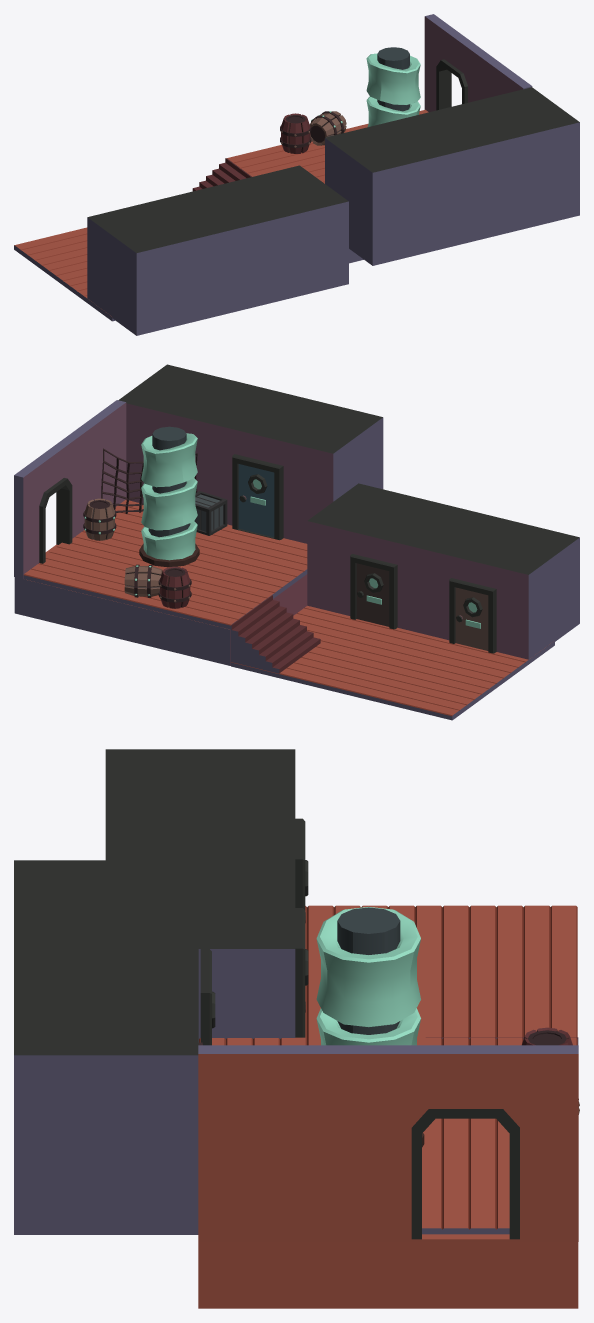
File: middle1.fbx
The picture shows the model from 3 angles, top to bottom: view 1: azimuth 30°, elevation 25°; view 2: azimuth 150°, elevation 25°; view 3: azimuth 270°, elevation 25°; orthographic projection. The views are drawn at different scales.
Visible parts, largest first — view 1: middle1; view 2: middle1; view 3: middle1.
Part boxes in pixels (x1=…): middle1: x1=14, y1=14, x2=579, y2=335; middle1: x1=14, y1=364, x2=579, y2=720; middle1: x1=14, y1=749, x2=579, y2=1308.
Bounding box in the file's own units: 1414 × 531 × 856.
Materials: 1 (1 with a texture image).
